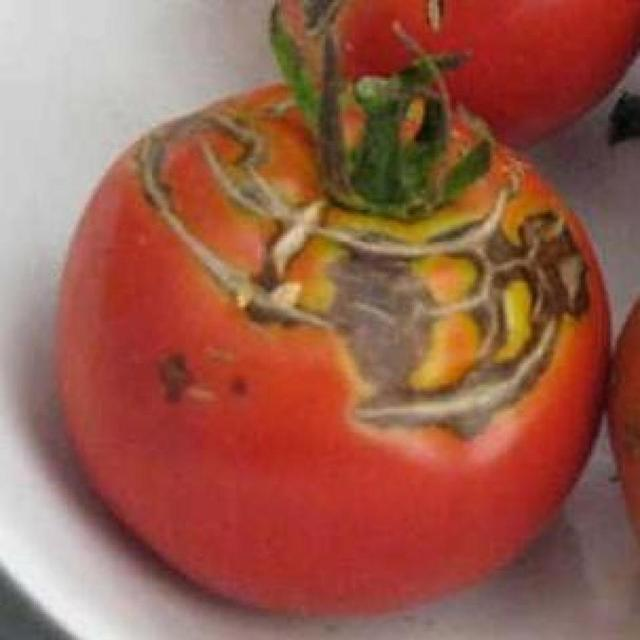Cracking Fruit: (45, 9, 328, 230)
